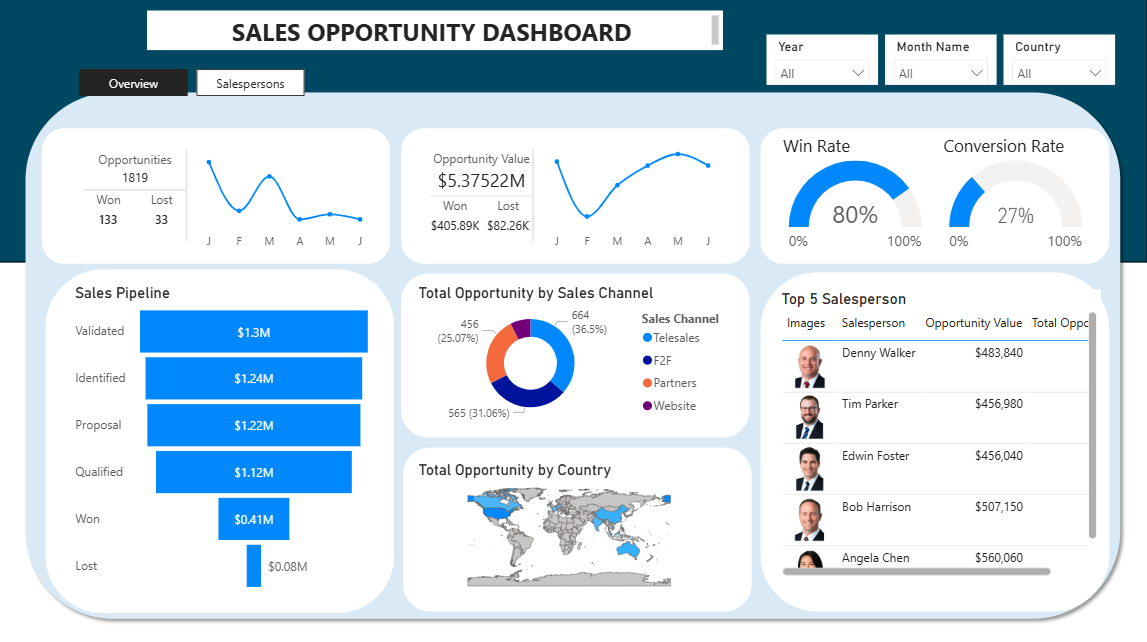

Layout of this report page (visuals, bound fields, positions):
{"tool":"powerbi","page":{"name":"Overview","canvas":[1280,720],"ordinal":0},"visuals":[{"type":"cardVisual","fields":{"Data":["Key Measures.Total Opportunity"]},"box":[77.8,150.6,150.6,140],"z":0},{"type":"lineChart","fields":{"Y":["Key Measures.Total Opportunity"],"Category":["Date Table.Month Initial"]},"box":[217.3,150.6,204.9,139.5],"z":1000},{"type":"cardVisual","fields":{"Data":["Key Measures.Opportunity Value"]},"box":[463.9,150.7,150.6,140],"z":2000},{"type":"lineChart","fields":{"Category":["Date Table.Month Initial"],"Y":["Key Measures.Opportunity Value"]},"box":[603.4,150.7,204.9,139.5],"z":3000},{"type":"gauge","fields":{"Y":["Key Measures.Win Rate"]},"box":[867.5,151.2,170,140],"z":4000},{"type":"gauge","fields":{"Y":["Key Measures.Conversion Rate"]},"box":[1046.2,151.2,170,140],"z":5000},{"type":"funnel","title":"Sales Pipeline","fields":{"Y":["Key Measures.Opportunity Value"],"Category":["Sales Opportunities.Sales stage"]},"box":[82,318,340,347],"z":6000},{"type":"donutChart","fields":{"Y":["Key Measures.Total Opportunity"],"Category":["Sales Opportunities.Sales Channel"]},"box":[464,318,362,157],"z":7000},{"type":"shapeMap","fields":{"Category":["Sales Opportunities.Country"],"Value":["Key Measures.Total Opportunity"]},"box":[462.9,515.7,344.3,150],"z":8000},{"type":"tableEx","title":"Top 5 Salesperson","fields":{"Values":["Sales Opportunities.Images","Sales Opportunities.Salesperson","Key Measures.Opportunity Value","Key Measures.Total Opportunity"]},"box":[867.1,325.7,360,322.9],"z":9000},{"type":"slicer","fields":{"Values":["Date Table.Year"]},"box":[854.3,41.4,124.3,55.7],"z":10000},{"type":"slicer","fields":{"Values":["Date Table.Month Name"]},"box":[986.4,41.4,124.3,55.7],"z":11000},{"type":"slicer","fields":{"Values":["Sales Opportunities.Country"]},"box":[1118.6,41.4,124.3,55.7],"z":12000},{"type":"textbox","box":[167.1,15.7,640,44.3],"z":13000},{"type":"pageNavigator","box":[91.4,80,251.4,30],"z":14000}]}

Visuals, with their boxes in screenshot pixels (x1, y1, x2, y2), scaled from the page's 1280x720 canvas onto the 1147x642 screenshot:
cardVisual - Key Measures.Total Opportunity: left=70, top=134, right=205, bottom=259
lineChart - Key Measures.Total Opportunity x Date Table.Month Initial: left=195, top=134, right=378, bottom=259
cardVisual - Key Measures.Opportunity Value: left=416, top=134, right=551, bottom=259
lineChart - Date Table.Month Initial x Key Measures.Opportunity Value: left=541, top=134, right=724, bottom=259
gauge - Key Measures.Win Rate: left=777, top=135, right=930, bottom=260
gauge - Key Measures.Conversion Rate: left=937, top=135, right=1090, bottom=260
"Sales Pipeline" funnel: left=73, top=284, right=378, bottom=593
donutChart - Key Measures.Total Opportunity x Sales Opportunities.Sales Channel: left=416, top=284, right=740, bottom=424
shapeMap - Sales Opportunities.Country x Key Measures.Total Opportunity: left=415, top=460, right=723, bottom=594
"Top 5 Salesperson" tableEx: left=777, top=290, right=1100, bottom=578
slicer - Date Table.Year: left=766, top=37, right=877, bottom=87
slicer - Date Table.Month Name: left=884, top=37, right=995, bottom=87
slicer - Sales Opportunities.Country: left=1002, top=37, right=1114, bottom=87
textbox: left=150, top=14, right=723, bottom=54
pageNavigator: left=82, top=71, right=307, bottom=98
